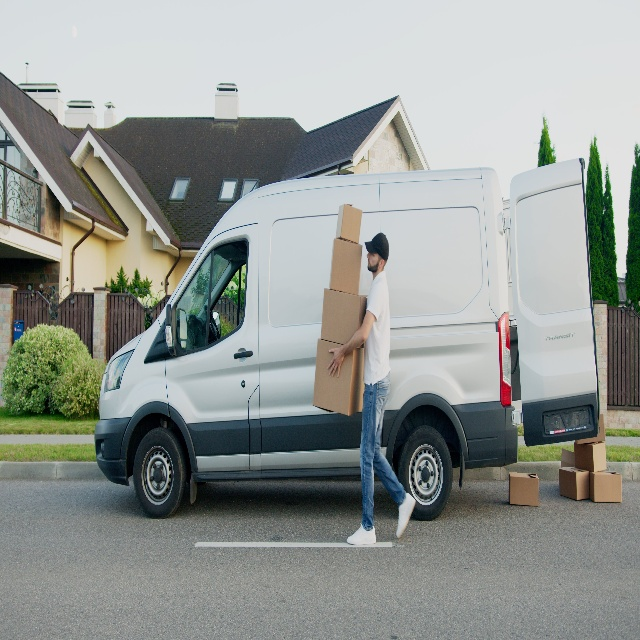Sin_guantes: (328, 346, 345, 376)
